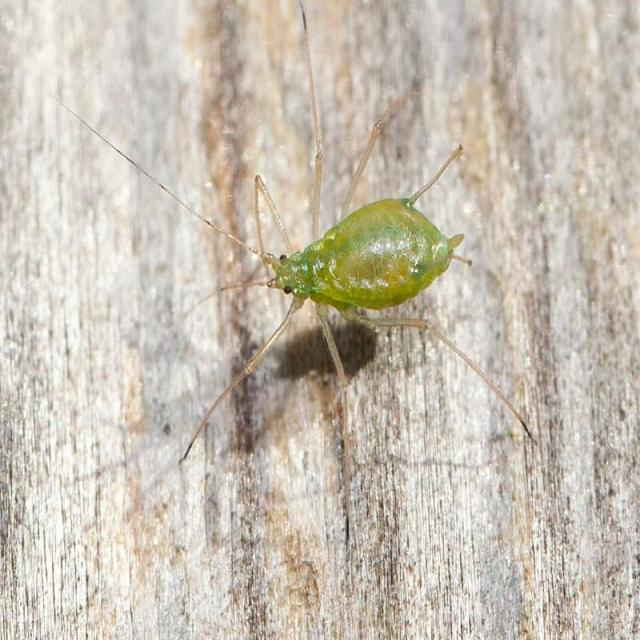Aphids: (169, 92, 505, 490)
